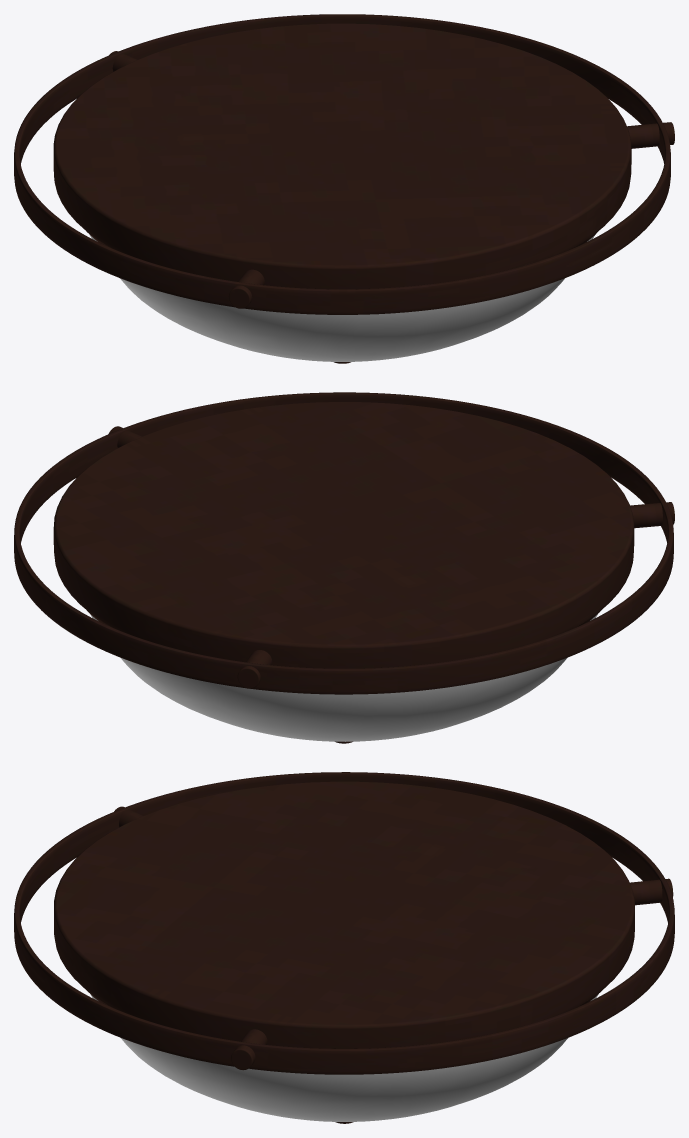
Rendered from abo-B0828F9CR3.glb.
3 views of the same model, one above another, from view 1: azimuth 30°, elevation 25°; view 2: azimuth 150°, elevation 25°; view 3: azimuth 270°, elevation 25° (orthographic).
Size of the model in its own units: 0.361 by 0.13 by 0.361.
Materials: 1 (1 with a texture image).
